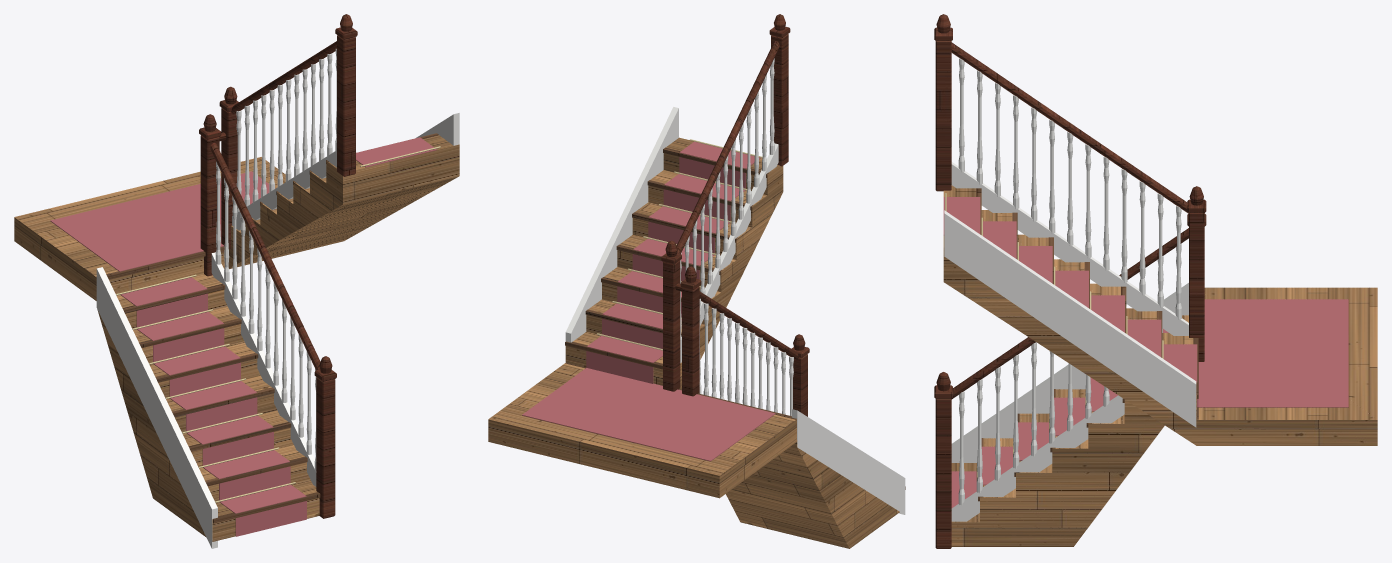
The model's file is stair_1_l.glb.
3 views of the same model, side by side, from view 1: azimuth 30°, elevation 25°; view 2: azimuth 150°, elevation 25°; view 3: azimuth 270°, elevation 25° (orthographic). The views are drawn at different scales.
Visible parts, largest first — view 1: stair_1_l_wood, stair_1_l_carpet_r, stair_1_l_trim, stair_1_l_mahog, stair_1_l_dkwood, stair_1_l_brass; view 2: stair_1_l_wood, stair_1_l_carpet_r, stair_1_l_trim, stair_1_l_mahog, stair_1_l_dkwood, stair_1_l_brass; view 3: stair_1_l_wood, stair_1_l_trim, stair_1_l_carpet_r, stair_1_l_mahog, stair_1_l_dkwood.
Boxes of the visible parts, x1,y1,x2,y2 form: stair_1_l_wood: (14, 135, 459, 541); stair_1_l_carpet_r: (50, 137, 436, 536); stair_1_l_trim: (96, 49, 459, 548); stair_1_l_mahog: (199, 14, 357, 518); stair_1_l_dkwood: (106, 133, 438, 523); stair_1_l_brass: (116, 146, 440, 502); stair_1_l_wood: (488, 137, 899, 548); stair_1_l_carpet_r: (522, 141, 775, 461); stair_1_l_trim: (565, 58, 905, 514); stair_1_l_mahog: (661, 14, 809, 416); stair_1_l_dkwood: (565, 147, 905, 489); stair_1_l_brass: (597, 139, 762, 350); stair_1_l_wood: (943, 185, 1377, 546); stair_1_l_trim: (944, 58, 1196, 521); stair_1_l_carpet_r: (943, 197, 1348, 507); stair_1_l_mahog: (934, 14, 1206, 548); stair_1_l_dkwood: (976, 188, 1198, 501).
Size of the model in its own units: 2.16 by 4.19 by 3.06.
6 materials, 3 textured.
